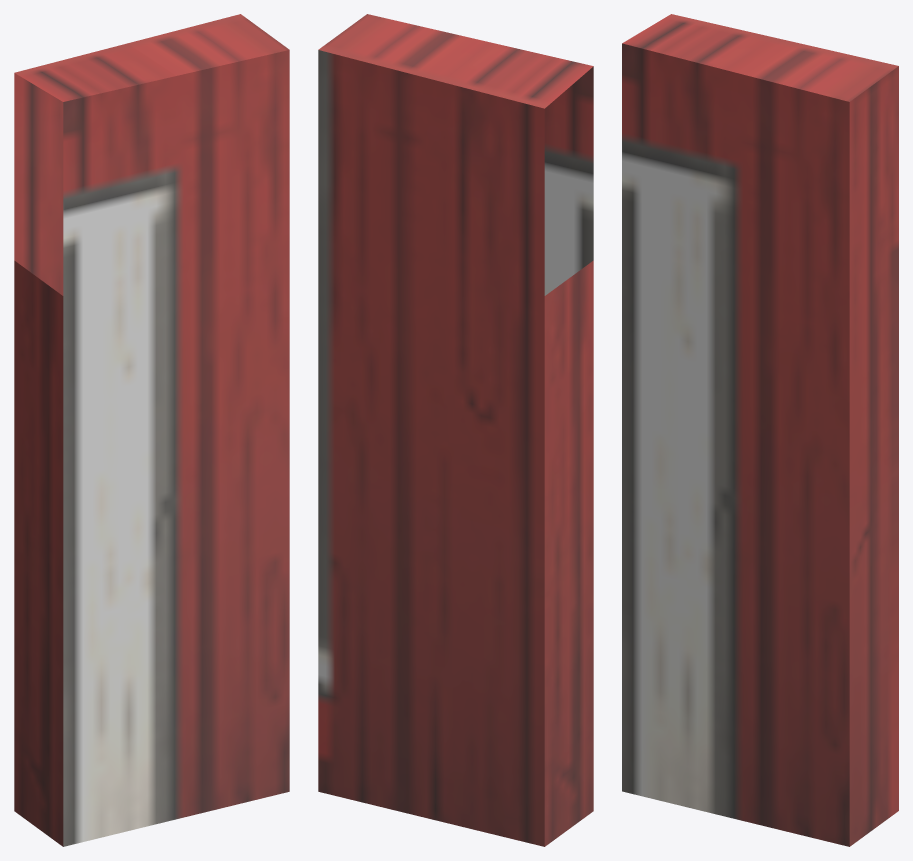
File: bFrontSide2.obj
The picture shows the model from 3 angles, left to right: view 1: azimuth 30°, elevation 25°; view 2: azimuth 150°, elevation 25°; view 3: azimuth 330°, elevation 25°; orthographic projection.
Visible parts, largest first — view 1: farm_barn_farm_barn_mesh.001_farm_barn_farm_barn_mesh.034; view 2: farm_barn_farm_barn_mesh.001_farm_barn_farm_barn_mesh.034; view 3: farm_barn_farm_barn_mesh.001_farm_barn_farm_barn_mesh.034.
Boxes of the visible parts, bbox=[...] form: farm_barn_farm_barn_mesh.001_farm_barn_farm_barn_mesh.034: bbox=[14, 14, 289, 846]; farm_barn_farm_barn_mesh.001_farm_barn_farm_barn_mesh.034: bbox=[318, 14, 593, 846]; farm_barn_farm_barn_mesh.001_farm_barn_farm_barn_mesh.034: bbox=[622, 14, 898, 846].
Bounding box in the file's own units: 0.7557 × 2.37 × 0.2832.
